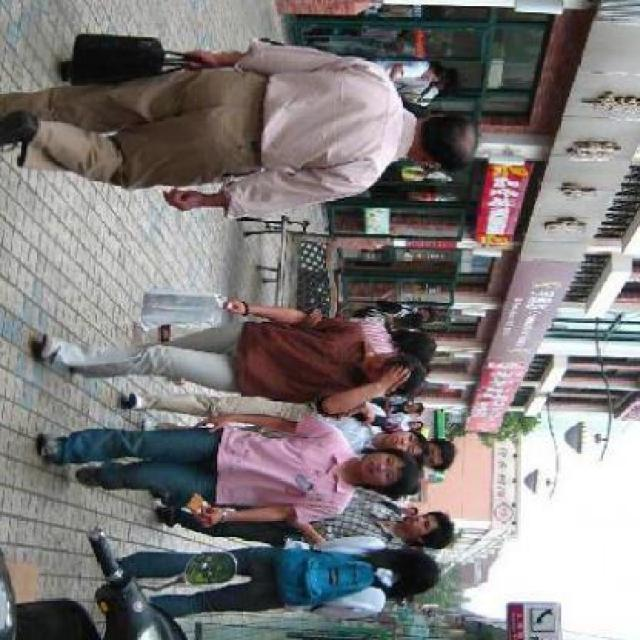Person: (0, 42, 485, 222), (32, 298, 428, 418), (27, 422, 424, 500), (98, 544, 444, 622), (138, 494, 458, 555)
